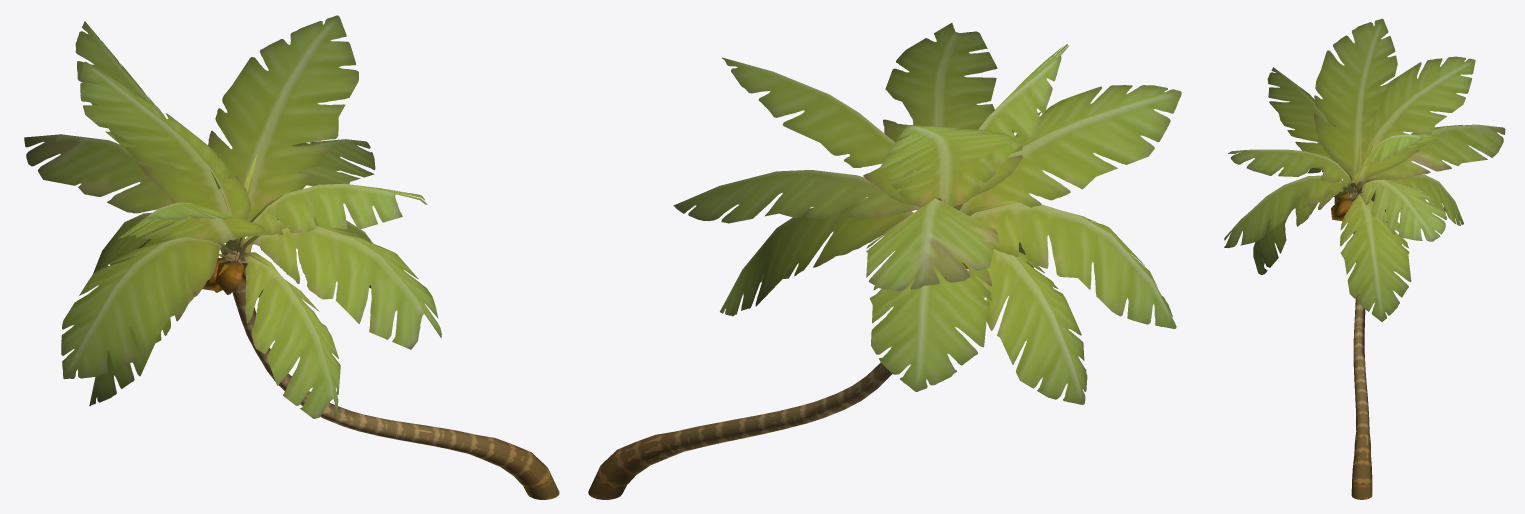
The model's file is coconut palm 01_lod3.obj.
3 views of the same model, side by side, from view 1: azimuth 30°, elevation 25°; view 2: azimuth 150°, elevation 25°; view 3: azimuth 270°, elevation 25° (orthographic). The views are drawn at different scales.
Parts seen in each view (by area): view 1: tree; view 2: tree; view 3: tree.
Part boxes in pixels (x1=…): tree: x1=24, y1=15, x2=559, y2=499; tree: x1=588, y1=23, x2=1181, y2=499; tree: x1=1224, y1=18, x2=1505, y2=499.
Size of the model in its own units: 555 by 542 by 423.
